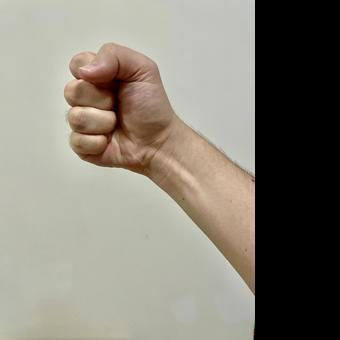gu-: (63, 42, 167, 169)
